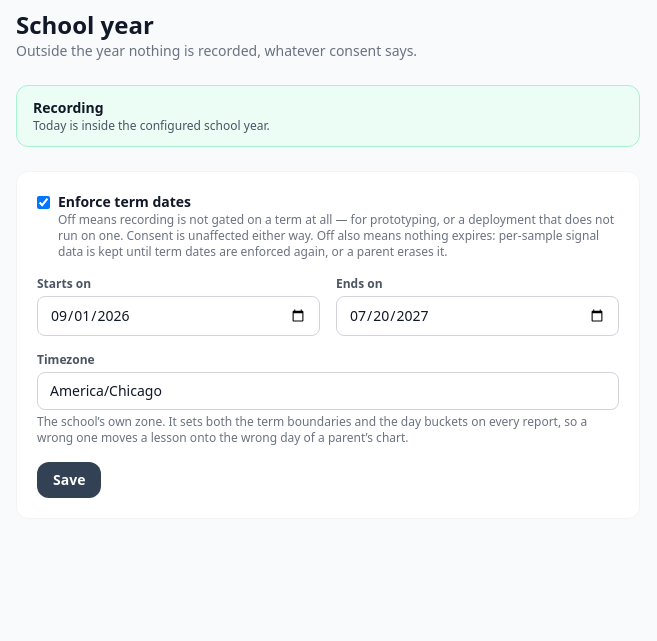
Scenario: dates that let the nightly delete reach further › shows the refusal and saves only on a second, explicit press
Expected: the field labelled "Timezone" is shown, x1=37 y1=372 x2=619 y2=410
Step 1. Click the button "Save" → (69, 480), box x1=37 y1=462 x2=101 y2=498
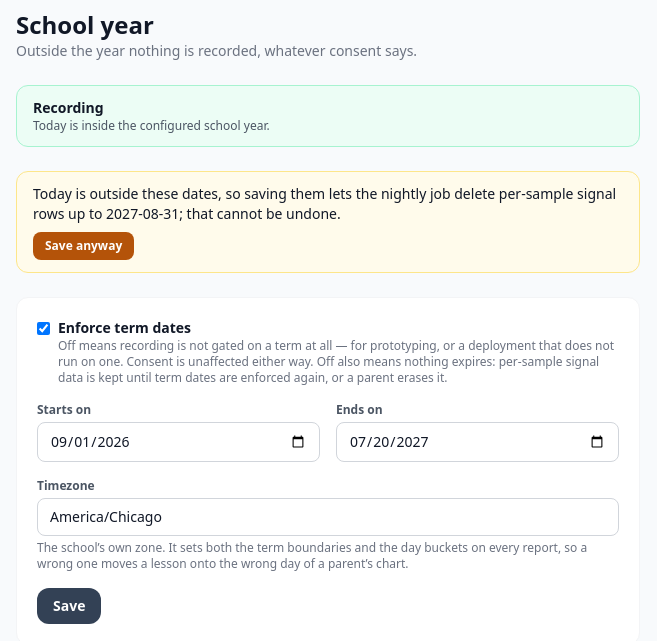
Expected: the text "Saved." is not shown
Expected: the message shows "cannot be undone", x1=33 y1=184 x2=616 y2=223
Step 2. Click the button "Save anyway" → (84, 246), box x1=33 y1=232 x2=134 y2=260
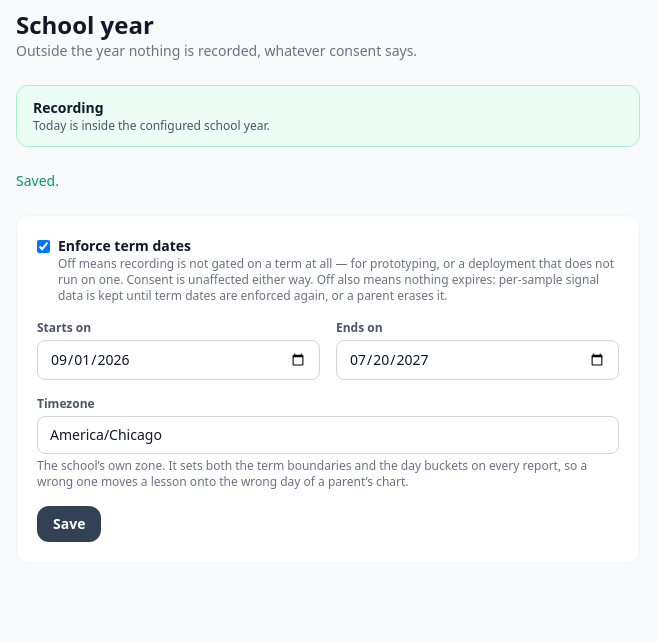
Expected: the text "Saved." is shown, x1=16 y1=171 x2=59 y2=190
